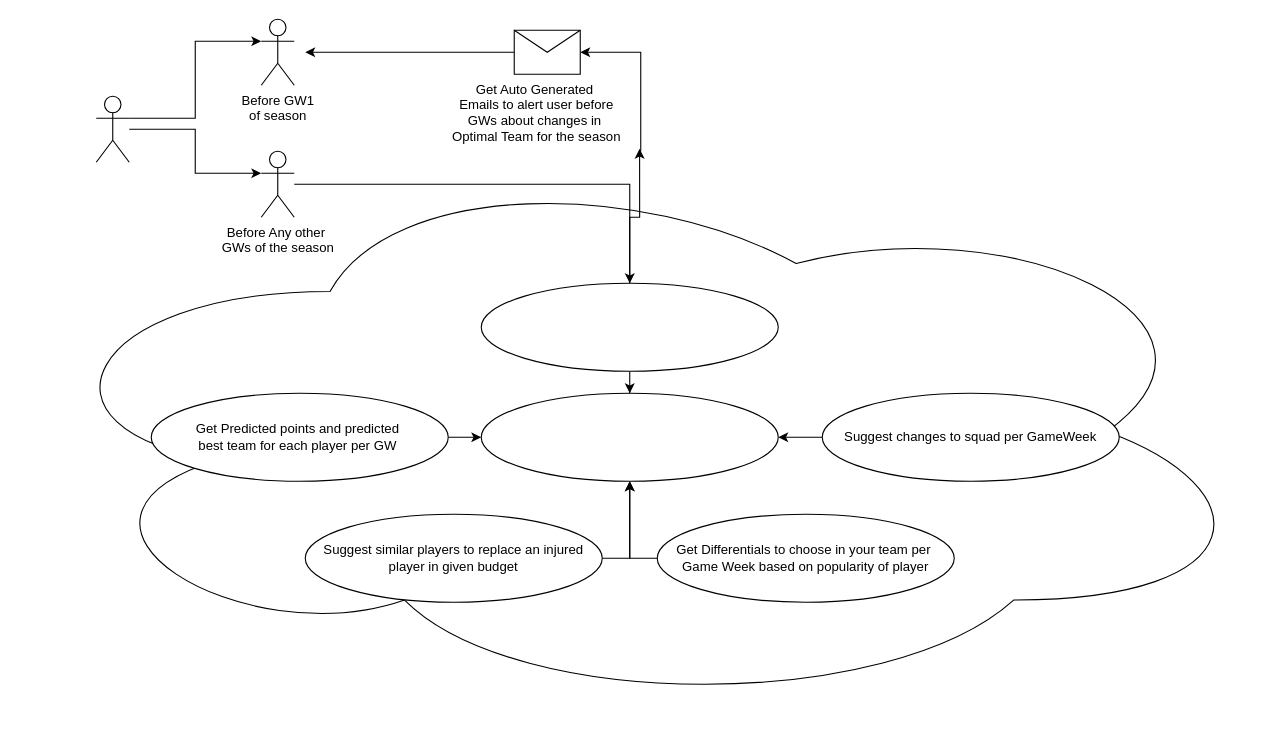
This 1282x732 diagram has some shape labels left out. The shapes that lost their labels are listed below. From the top down, each one's box as (x1, y1, x2, y2) in pixels, then its label:
(95, 95, 129, 162): New User
(480, 282, 778, 371): Optimize use of in Game Chips to boost Fantasy score
(480, 392, 778, 481): Create Fantasy PL Team optimized for the season
